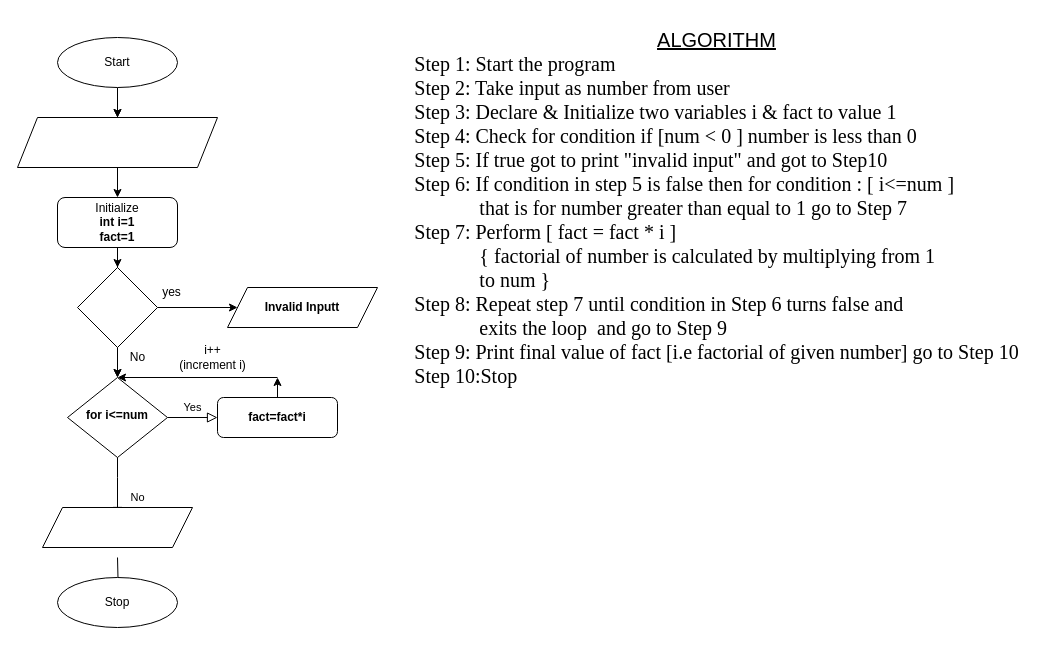
Image size: 1049x645. Some labels were removed from this diagram. Each missing label, with the centre of its shape:
Check if num<0: the point at 117,307
Enter the number: the point at 117,142
Print fact: the point at 117,527
